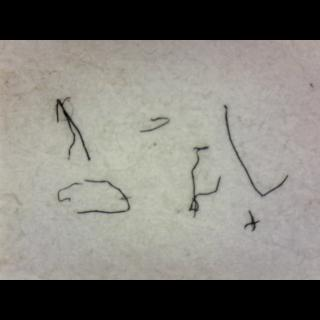Microplastic: (215, 101, 302, 197), (59, 164, 151, 226), (46, 86, 96, 158), (188, 143, 222, 211), (135, 102, 179, 138), (238, 206, 264, 234)
